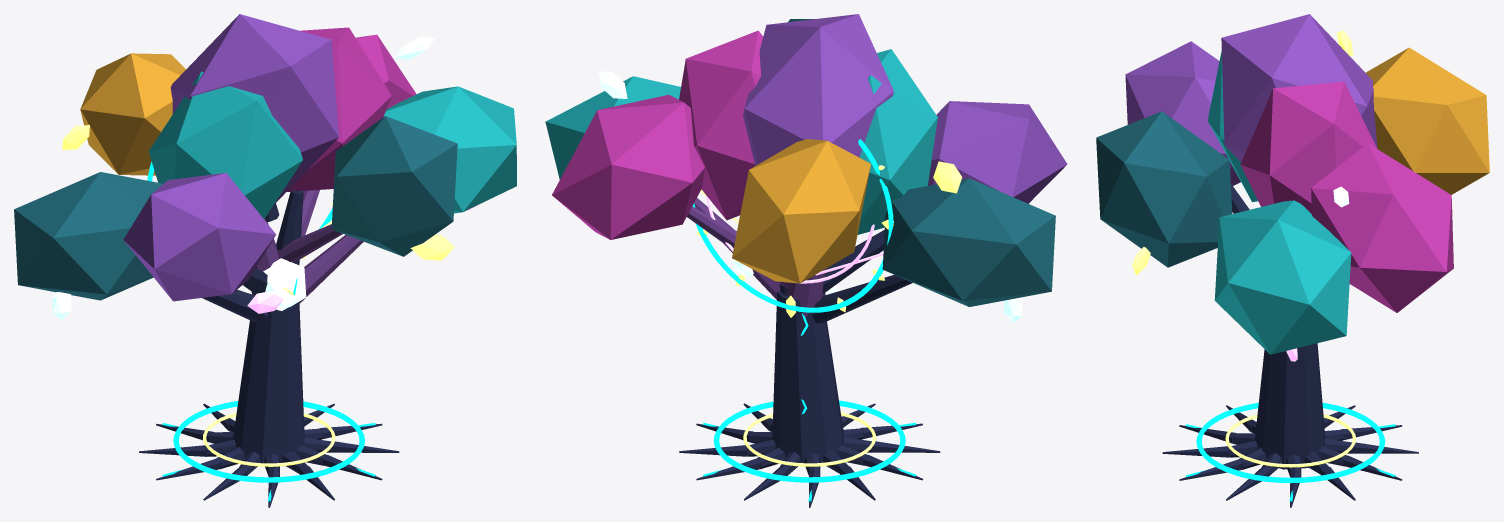
Rendered from mature.glb.
The picture shows the model from 3 angles, left to right: view 1: azimuth 30°, elevation 25°; view 2: azimuth 150°, elevation 25°; view 3: azimuth 270°, elevation 25°; orthographic projection.
Visible parts, largest first — view 1: World_Crown_06, World_Crown_01, World_Crown_03, World_Crown_07, World_Crown_08, World_Crown_02, World_Crown_05, World_Trunk_Base, World_Crown_09, World_Ground_Orbit_Outer, World_Crown_04, Time_Core_Outer (+7 smaller); view 2: World_Crown_01, World_Crown_07, World_Crown_04, World_Crown_05, World_Crown_09, World_Crown_03, World_Trunk_Base, World_Crown_08, World_Crown_02, World_Ground_Orbit_Outer, Great_Time_Halo, World_Branch_01 (+6 smaller); view 3: World_Crown_02, World_Crown_06, World_Crown_04, World_Crown_05, World_Crown_07, World_Crown_09, World_Trunk_Base, World_Crown_03, World_Ground_Orbit_Outer, World_Crown_08, World_Ground_Orbit_Inner, Ancient_Root_B_10 (+1 smaller).
Part boxes in pixels (x1,y1,x2,y2): World_Crown_06: [331, 116, 457, 256]; World_Crown_01: [14, 172, 161, 300]; World_Crown_03: [123, 173, 275, 301]; World_Crown_07: [170, 14, 338, 205]; World_Crown_08: [148, 71, 302, 218]; World_Crown_02: [383, 86, 516, 213]; World_Crown_05: [80, 53, 185, 175]; World_Trunk_Base: [233, 302, 304, 463]; World_Crown_09: [287, 27, 391, 191]; World_Ground_Orbit_Outer: [173, 401, 364, 482]; World_Crown_04: [356, 34, 416, 108]; Time_Core_Outer: [263, 258, 306, 310]; World_Crown_01: [882, 178, 1055, 306]; World_Crown_07: [743, 14, 893, 165]; World_Crown_04: [552, 94, 704, 239]; World_Crown_05: [732, 139, 870, 283]; World_Crown_09: [679, 30, 763, 220]; World_Crown_03: [928, 101, 1067, 203]; World_Trunk_Base: [772, 291, 844, 463]; World_Crown_08: [857, 49, 937, 234]; World_Crown_02: [545, 76, 680, 179]; World_Ground_Orbit_Outer: [713, 400, 905, 482]; Great_Time_Halo: [692, 139, 893, 312]; World_Branch_01: [812, 274, 912, 323]; World_Crown_02: [1214, 200, 1351, 354]; World_Crown_06: [1096, 111, 1232, 267]; World_Crown_04: [1311, 143, 1453, 312]; World_Crown_05: [1366, 47, 1489, 194]; World_Crown_07: [1221, 14, 1377, 161]; World_Crown_09: [1240, 81, 1376, 213]; World_Trunk_Base: [1254, 343, 1325, 469]; World_Crown_03: [1125, 41, 1240, 185]; World_Ground_Orbit_Outer: [1196, 402, 1385, 483]; World_Crown_08: [1208, 52, 1257, 202]; World_Ground_Orbit_Inner: [1225, 414, 1356, 467]; Ancient_Root_B_10: [1162, 446, 1229, 457].
Size of the model in its own units: 7.33 by 6.13 by 5.07.
